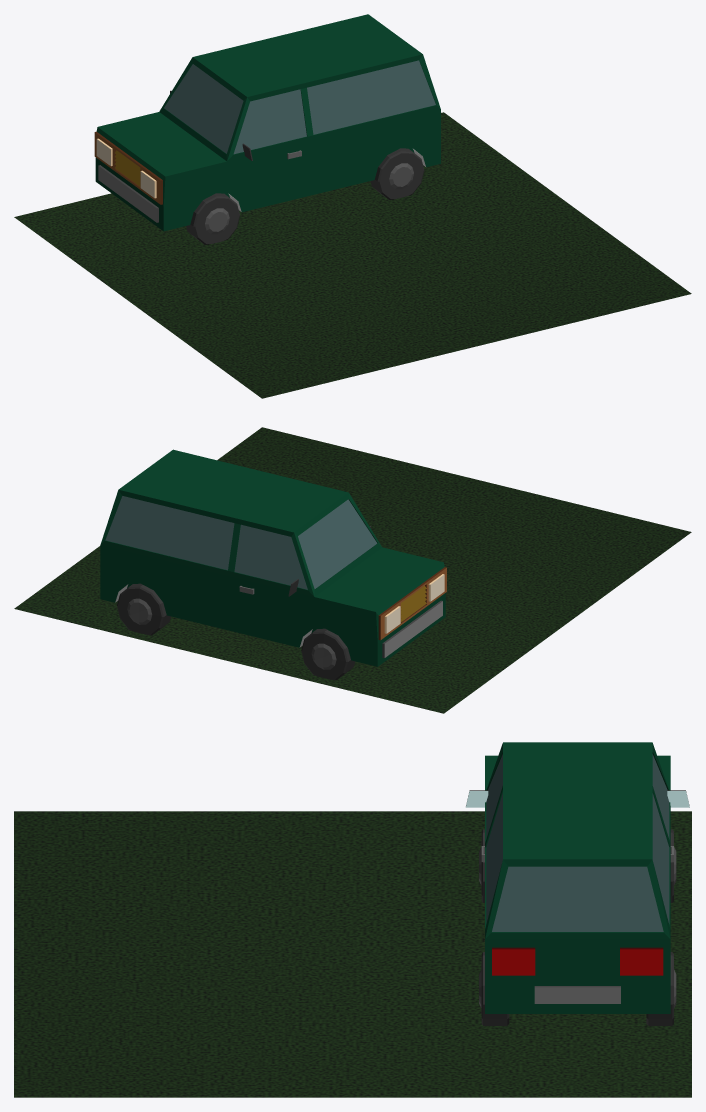
Rendered from campsite-with-car.glb.
The picture shows the model from 3 angles, top to bottom: view 1: azimuth 30°, elevation 25°; view 2: azimuth 150°, elevation 25°; view 3: azimuth 270°, elevation 25°; orthographic projection. The views are drawn at different scales.
Visible parts, largest first — view 1: Grass, Van; view 2: Grass, Van; view 3: Grass, Van.
Boxes of the visible parts, x1,y1,x2,y2 form: Grass: (14,112,691,398); Van: (94,14,440,244); Grass: (14,427,691,713); Van: (100,449,446,680); Grass: (14,811,691,1097); Van: (465,742,689,1025).
Size of the model in its own units: 6.1 by 1.81 by 6.1.
Materials: 2 (2 with a texture image).
